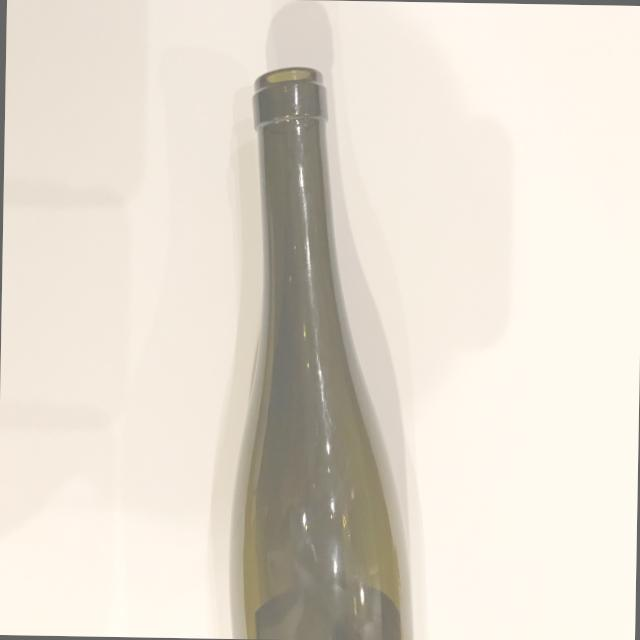Glass: (213, 57, 437, 640)
